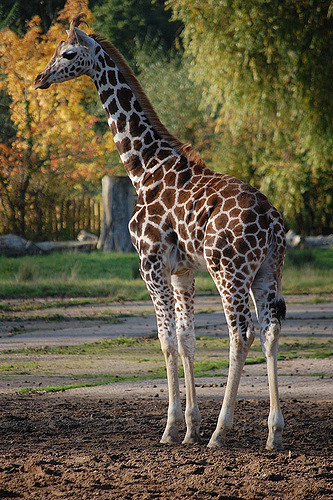giraffe: (39, 30, 304, 449)
